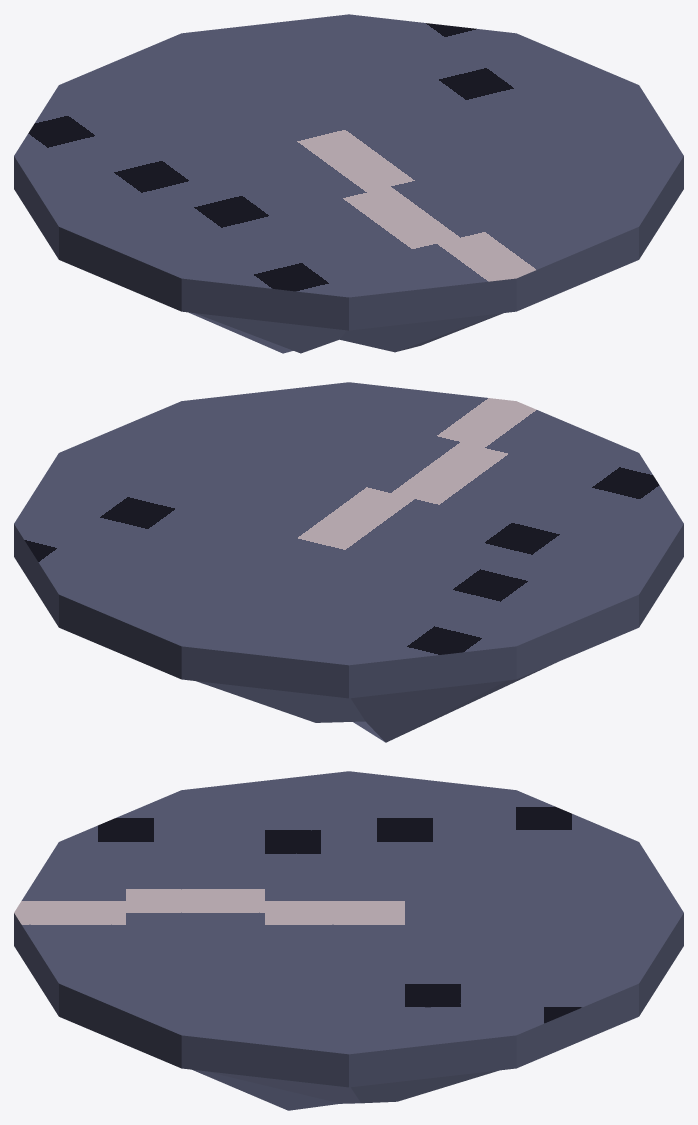
The model's file is hill.glb.
3 views of the same model, one above another, from view 1: azimuth 30°, elevation 25°; view 2: azimuth 150°, elevation 25°; view 3: azimuth 270°, elevation 25° (orthographic).
Parts seen in each view (by area): view 1: Top, Under; view 2: Top, Under; view 3: Top, Under.
Boxes of the visible parts, left/top/right/bottom form: Top: left=14, top=14, right=683, bottom=330; Under: left=188, top=312, right=503, bottom=353; Top: left=14, top=382, right=683, bottom=698; Under: left=196, top=662, right=556, bottom=742; Top: left=14, top=771, right=683, bottom=1087; Under: left=192, top=1069, right=499, bottom=1110.
Bounding box in the file's own units: 11 × 3.55 × 11.
2 materials, 1 textured.
